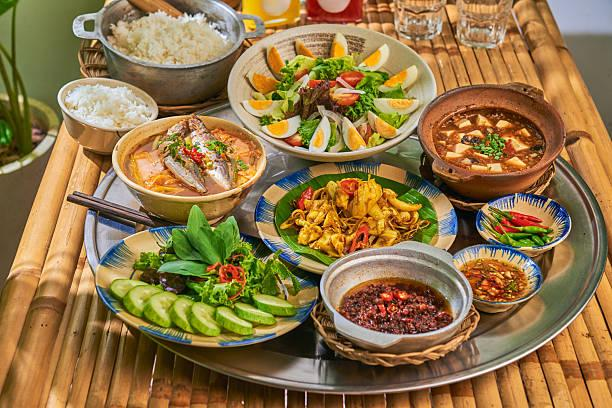Braised Crucian Carp: (227, 24, 426, 160), (92, 225, 313, 346), (255, 161, 459, 276), (311, 240, 477, 368), (72, 0, 259, 105), (416, 83, 566, 199), (110, 114, 263, 221)
